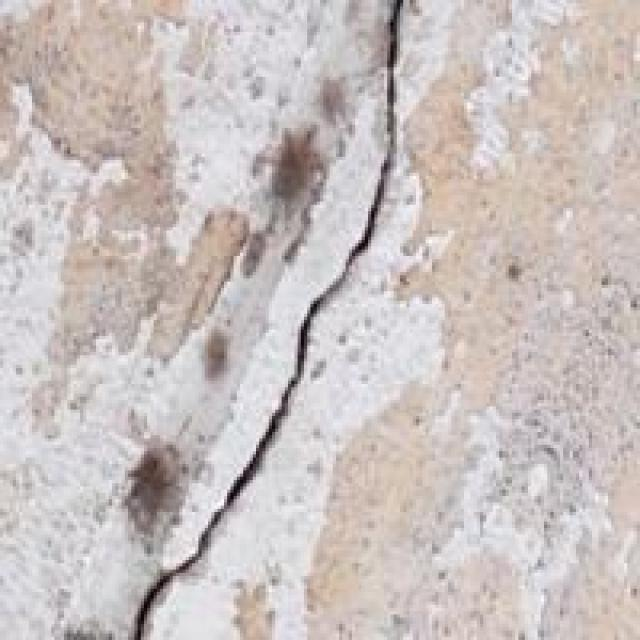Crack: (112, 0, 470, 637)
